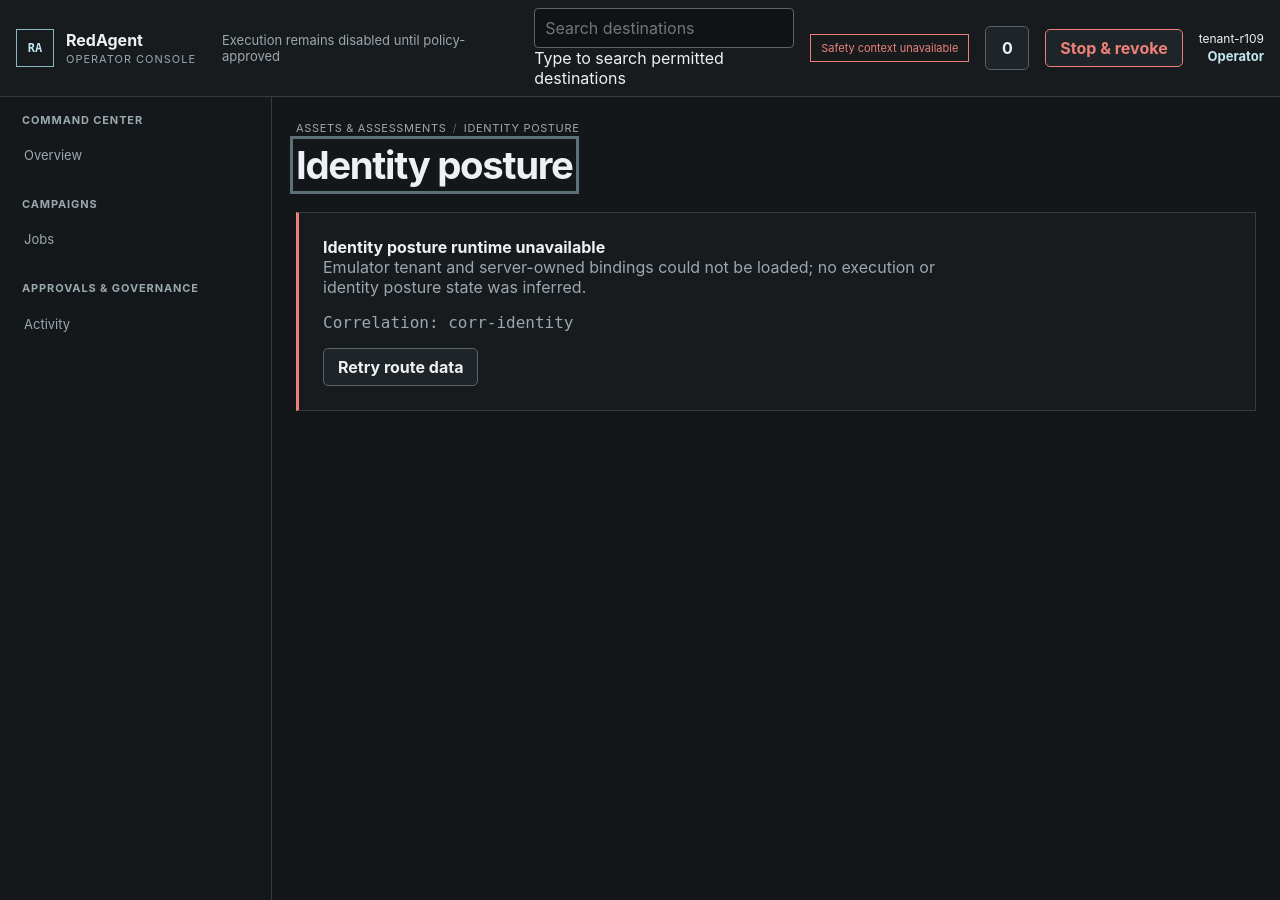
Test: projects a correlated identity outage and retries without inferring posture state
Check: the message "Identity posture runtime unavailable" is shown, box [296,212,1256,411]
Check: the text "Correlation: corr-identity" is shown, box [323,313,574,332]
Click the button "Retry route data". click: {"x": 401, "y": 367}
box: [323,348,478,386]
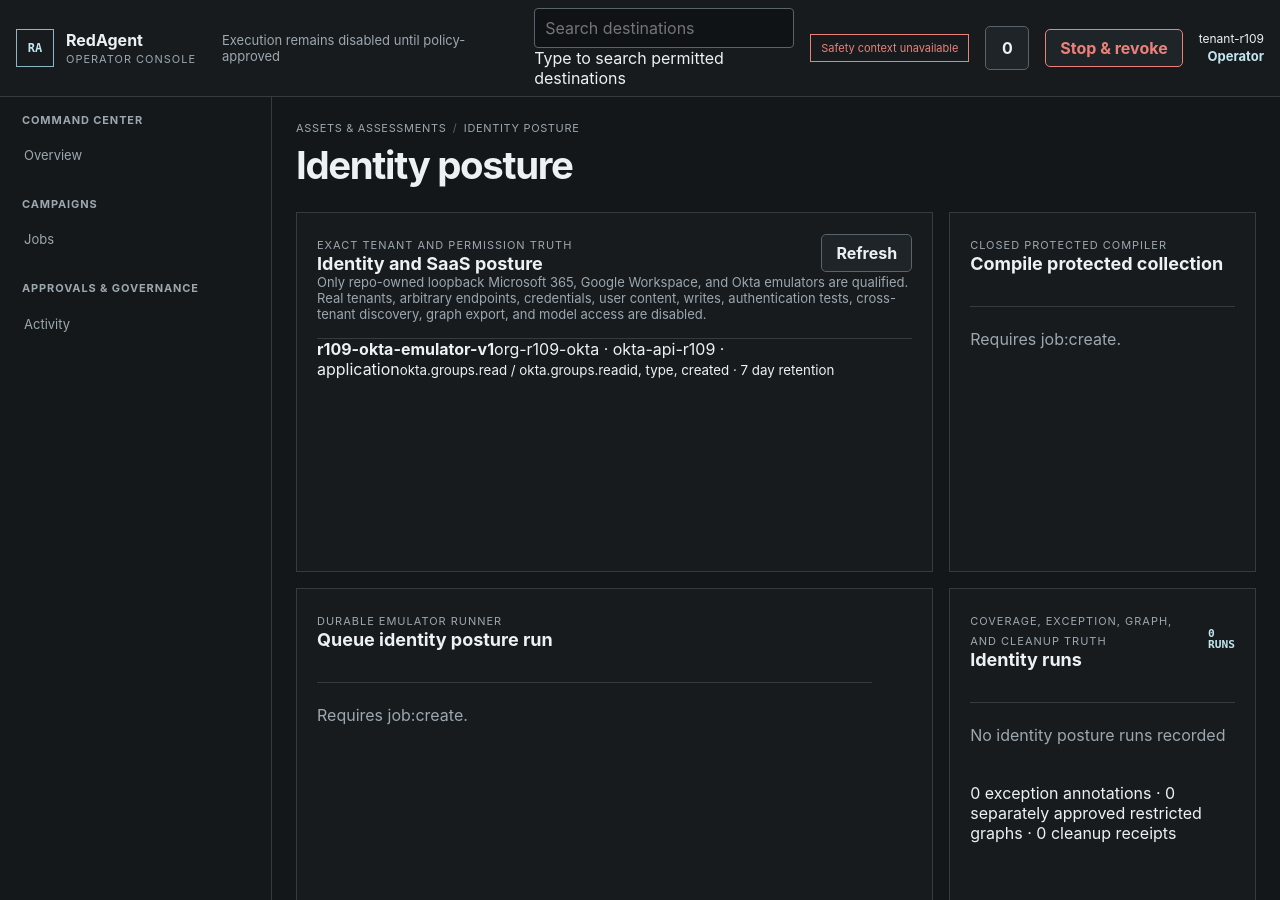
Check: the text "No identity posture runs recorded" is shown, box [970,702,1235,767]
